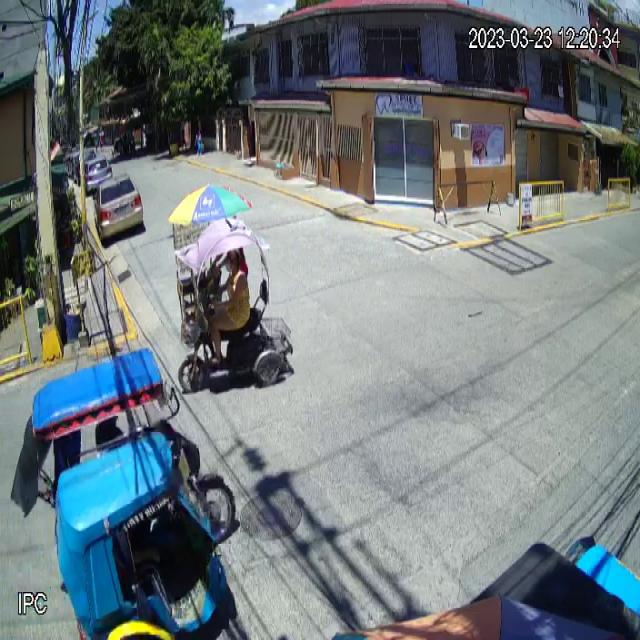Car: (92, 173, 144, 243)
Tricycle: (11, 349, 238, 640)
